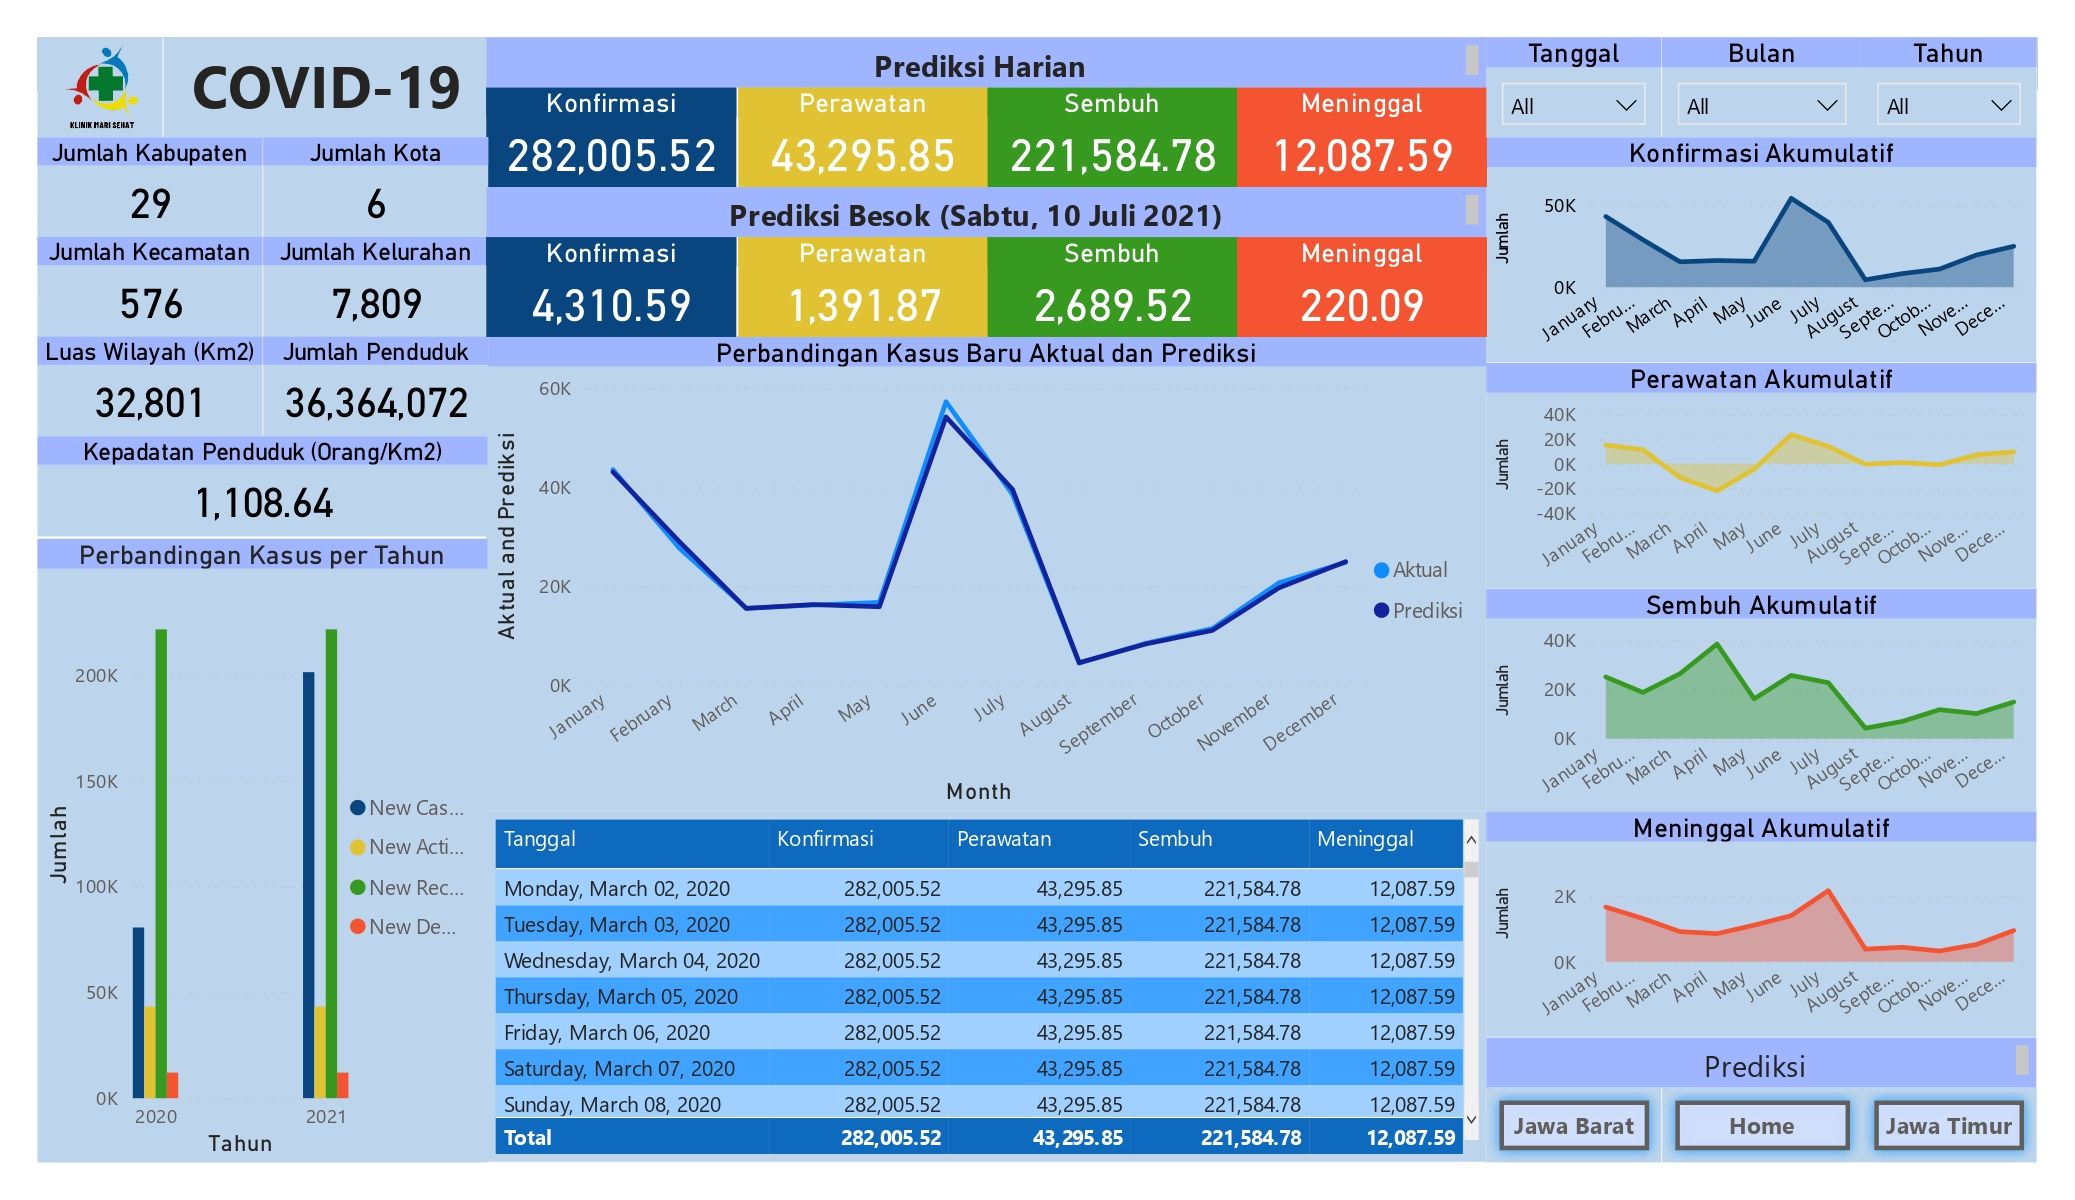

The page's visual inventory and layout, read from the dashboard file:
{"tool":"powerbi","page":{"name":"Prediksi Jawa Tengah","canvas":[1280,720],"ordinal":2},"visuals":[{"type":"card","title":"Jumlah Kabupaten","fields":{"Values":["Sum(KependudukanJateng.Total Regencies)"]},"box":[0,64,144,64],"z":0},{"type":"lineChart","title":"Perbandingan Kasus Baru  Aktual dan Prediksi","fields":{"Category":["New Cases_Jateng.Date.Variation.Date Hierarchy.Month"],"Y":["Sum(New Cases_Jateng.New Cases)","Sum(New Cases_Jateng.New Cases Prediction)"]},"box":[288,192,640,304],"z":1000},{"type":"tableEx","title":"Deaths by Countries","fields":{"Values":["NewActiveCases_Jabar.Date.1","Sum(New Cases_Jateng.New Cases Prediction)","Sum(NewActiveCases_Jateng.New Active Cases Prediction)","Sum(NewRecovered_Jateng.New Recovered Prediction)","Sum(NewDeaths_Jateng.New Deaths Prediction)"]},"box":[288,496,640,224],"z":2000},{"type":"areaChart","title":"Konfirmasi Akumulatif","fields":{"Category":["New Cases_Jateng.Date.Variation.Date Hierarchy.Month"],"Y":["Sum(New Cases_Jateng.New Cases Prediction)"]},"box":[928,64,352,144],"z":3000},{"type":"card","title":"Perawatan","fields":{"Values":["Sum(NewActiveCases_Jateng.New Active Cases Prediction)"]},"box":[448,32,160,64],"z":4000},{"type":"card","title":"Sembuh","fields":{"Values":["Sum(NewRecovered_Jateng.New Recovered Prediction)"]},"box":[608,32,160,64],"z":5000},{"type":"card","title":"Meninggal","fields":{"Values":["Sum(NewDeaths_Jateng.New Deaths Prediction)"]},"box":[768,32,160,64],"z":6000},{"type":"image","box":[0,0,80,64],"z":7000},{"type":"slicer","title":"Bulan","fields":{"Values":["MariSehat_Clean.Month Name"]},"box":[1040,0,128,64],"z":8000},{"type":"slicer","title":"Tanggal","fields":{"Values":["MariSehat_Clean.Day"]},"box":[928,0,112,64],"z":9000},{"type":"slicer","title":"Tahun","fields":{"Values":["MariSehat_Clean.Year"]},"box":[1168,0,112,64],"z":10000},{"type":"textbox","box":[80,0,208,64],"z":11000},{"type":"areaChart","title":"Perawatan Akumulatif","fields":{"Category":["NewActiveCases_Jateng.Date.Variation.Date Hierarchy.Month"],"Y":["Sum(NewActiveCases_Jateng.New Active Cases Prediction)"]},"box":[928,208,352,144],"z":12000},{"type":"stackedAreaChart","title":"Sembuh Akumulatif","fields":{"Category":["NewRecovered_Jateng.Date.Variation.Date Hierarchy.Month"],"Y":["Sum(NewRecovered_Jateng.New Recovered Prediction)"]},"box":[928,352,352,144],"z":13000},{"type":"stackedAreaChart","title":"Meninggal Akumulatif","fields":{"Category":["NewDeaths_Jateng.Date.Variation.Date Hierarchy.Month"],"Y":["Sum(NewDeaths_Jateng.New Deaths Prediction)"]},"box":[928,496,352,144],"z":14000},{"type":"actionButton","box":[928,672,112,48],"z":15000},{"type":"actionButton","box":[1040,672,128,48],"z":16000},{"type":"actionButton","box":[1168,672,112,48],"z":17000},{"type":"textbox","box":[928,640,352,32],"z":18000},{"type":"card","title":"Konfirmasi","fields":{"Values":["Sum(New Cases_Jateng.New Cases Prediction)"]},"box":[288,32,160,64],"z":19000},{"type":"card","title":"Jumlah                                                                      Kota","fields":{"Values":["Sum(KependudukanJateng.Total Cities)"]},"box":[144,64,144,64],"z":20000},{"type":"card","title":"Jumlah Kecamatan","fields":{"Values":["Sum(KependudukanJateng.Total Districts)"]},"box":[0,128,144,64],"z":21000},{"type":"card","title":"Jumlah Kelurahan","fields":{"Values":["Sum(KependudukanJateng.Total Rural Villages)"]},"box":[144,128,144,64],"z":22000},{"type":"card","title":"Luas Wilayah (Km2)","fields":{"Values":["Sum(KependudukanJateng.Area (km2))"]},"box":[0,192,144,64],"z":23000},{"type":"card","title":"Jumlah Penduduk","fields":{"Values":["Sum(KependudukanJateng.Population)"]},"box":[144,192,144,64],"z":24000},{"type":"card","title":"Kepadatan Penduduk (Orang/Km2)","fields":{"Values":["Sum(KependudukanJateng.Population Density)"]},"box":[0,256,288,64],"z":25000},{"type":"card","title":"Konfirmasi","fields":{"Values":["Sum(New Cases_Jateng.Tomorrow Prediction)"]},"box":[288,128,160,64],"z":26000},{"type":"card","title":"Perawatan","fields":{"Values":["Sum(NewActiveCases_Jateng.Tomorrow Prediction)"]},"box":[448,128,160,64],"z":27000},{"type":"card","title":"Sembuh","fields":{"Values":["Sum(NewRecovered_Jateng.Tomorrow Prediction)"]},"box":[608,128,160,64],"z":28000},{"type":"card","title":"Meninggal","fields":{"Values":["Sum(NewDeaths_Jateng.Tomorrow Prediction)"]},"box":[768,128,160,64],"z":29000},{"type":"textbox","box":[288,0,640,32],"z":30000},{"type":"textbox","box":[288,96,640,32],"z":31000},{"type":"clusteredColumnChart","title":"Perbandingan Kasus per Tahun","fields":{"Category":["New Cases_Jateng.Date.Variation.Date Hierarchy.Year","New Cases_Jateng.Date.Variation.Date Hierarchy.Quarter","New Cases_Jateng.Date.Variation.Date Hierarchy.Month","New Cases_Jateng.Date.Variation.Date Hierarchy.Day"],"Y":["Sum(New Cases_Jateng.New Cases Prediction)","Sum(NewActiveCases_Jateng.New Active Cases Prediction)","Sum(NewRecovered_Jateng.New Recovered Prediction)","Sum(NewDeaths_Jateng.New Deaths Prediction)"]},"box":[0,320,288,400],"z":32000}]}

Visuals, with their boxes in screenshot pixels (x1, y1, x2, y2):
"Jumlah Kabupaten" card: 38, 138, 262, 238
"Perbandingan Kasus Baru  Aktual dan Prediksi" lineChart: 488, 338, 1488, 812
"Deaths by Countries" tableEx: 488, 812, 1488, 1162
"Konfirmasi Akumulatif" areaChart: 1488, 138, 2038, 362
"Perawatan" card: 738, 88, 988, 188
"Sembuh" card: 988, 88, 1238, 188
"Meninggal" card: 1238, 88, 1488, 188
image: 38, 38, 162, 138
"Bulan" slicer: 1662, 38, 1862, 138
"Tanggal" slicer: 1488, 38, 1662, 138
"Tahun" slicer: 1862, 38, 2038, 138
textbox: 162, 38, 488, 138
"Perawatan Akumulatif" areaChart: 1488, 362, 2038, 588
"Sembuh Akumulatif" stackedAreaChart: 1488, 588, 2038, 812
"Meninggal Akumulatif" stackedAreaChart: 1488, 812, 2038, 1038
actionButton: 1488, 1088, 1662, 1162
actionButton: 1662, 1088, 1862, 1162
actionButton: 1862, 1088, 2038, 1162
textbox: 1488, 1038, 2038, 1088
"Konfirmasi" card: 488, 88, 738, 188
"Jumlah                                                                      Kota" card: 262, 138, 488, 238
"Jumlah Kecamatan" card: 38, 238, 262, 338
"Jumlah Kelurahan" card: 262, 238, 488, 338
"Luas Wilayah (Km2)" card: 38, 338, 262, 438
"Jumlah Penduduk" card: 262, 338, 488, 438
"Kepadatan Penduduk (Orang/Km2)" card: 38, 438, 488, 538
"Konfirmasi" card: 488, 238, 738, 338
"Perawatan" card: 738, 238, 988, 338
"Sembuh" card: 988, 238, 1238, 338
"Meninggal" card: 1238, 238, 1488, 338
textbox: 488, 38, 1488, 88
textbox: 488, 188, 1488, 238
"Perbandingan Kasus per Tahun" clusteredColumnChart: 38, 538, 488, 1162
